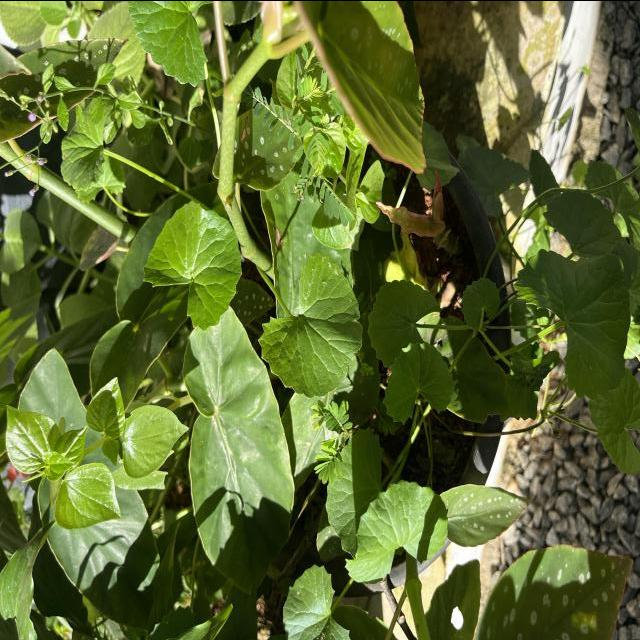Centella asiatica: (511, 244, 634, 402), (255, 249, 364, 399), (140, 196, 244, 334), (342, 476, 450, 588), (364, 276, 444, 368), (381, 338, 458, 426)
